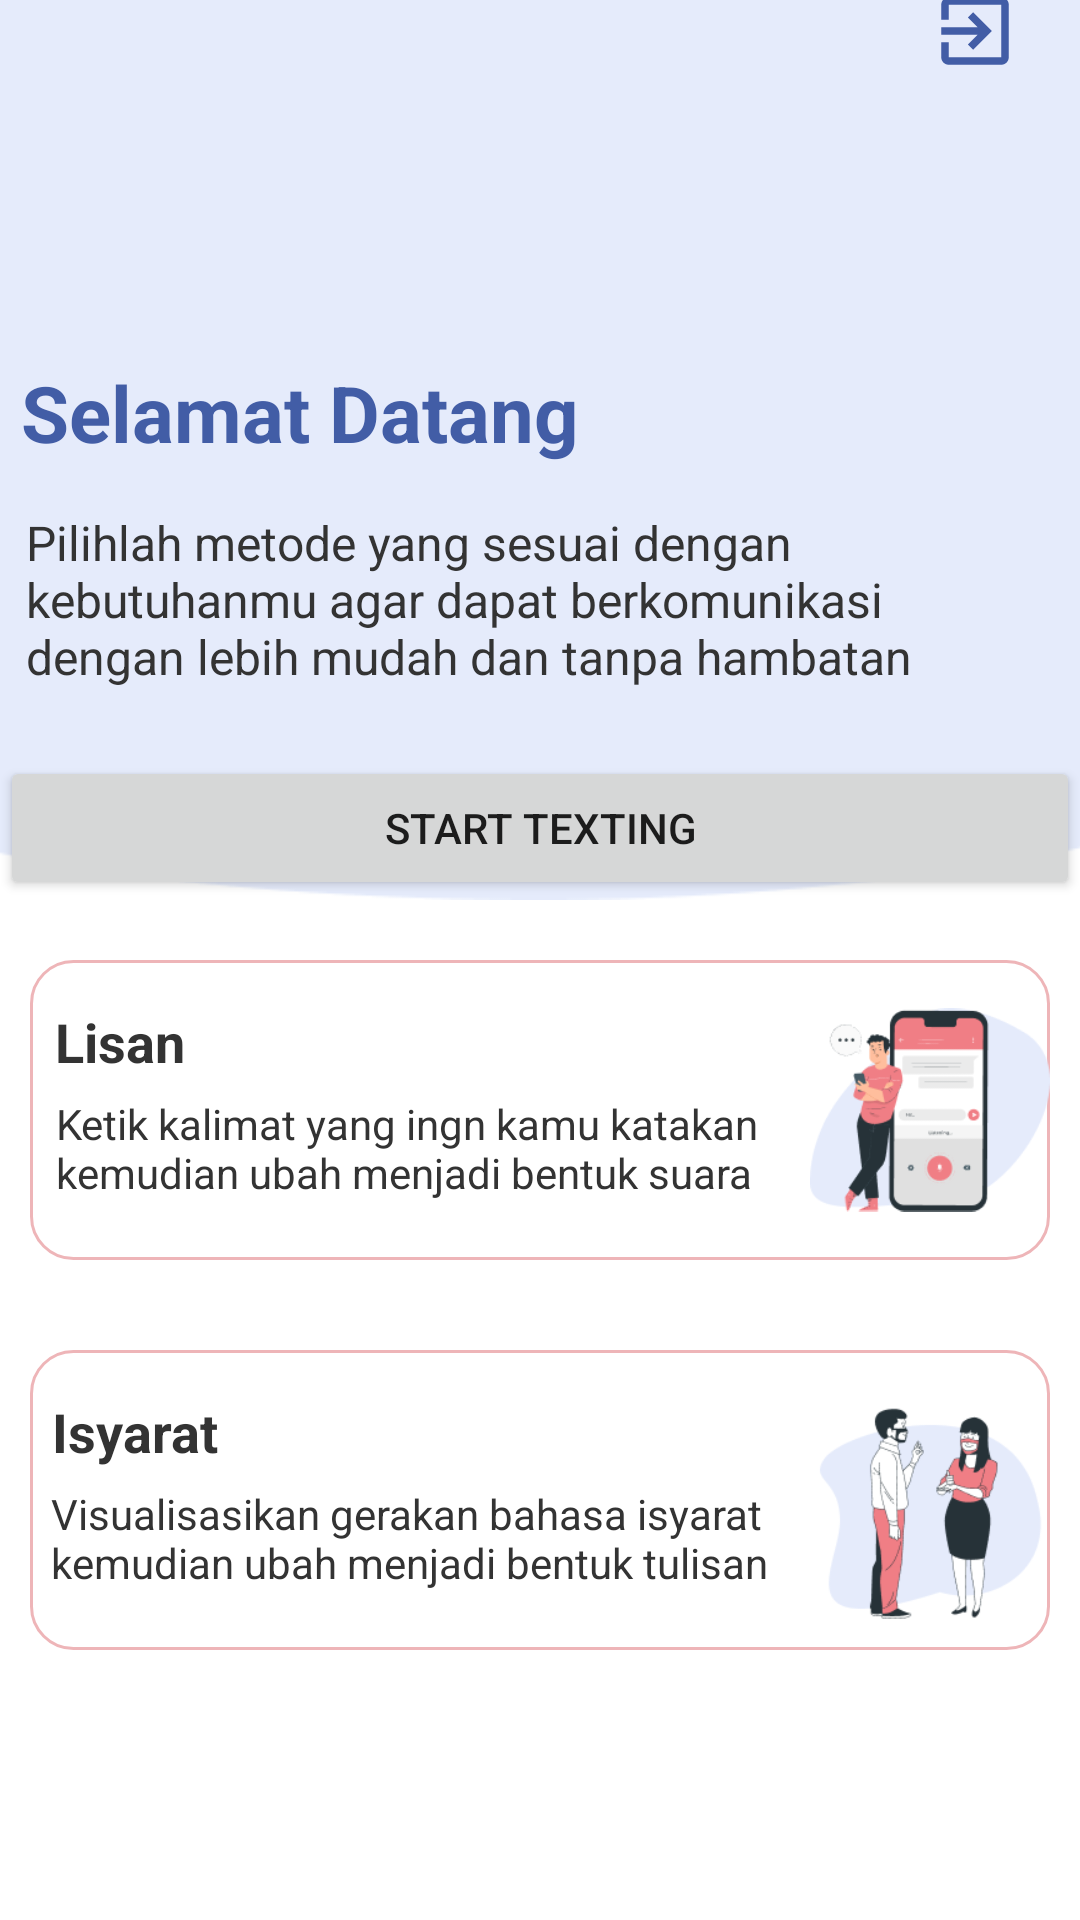

Screen size 1080px x 1920px. Icon name, then its box in pixels as [x1, y1, x2, y2]:
lisan: [810, 975, 1050, 1245]
